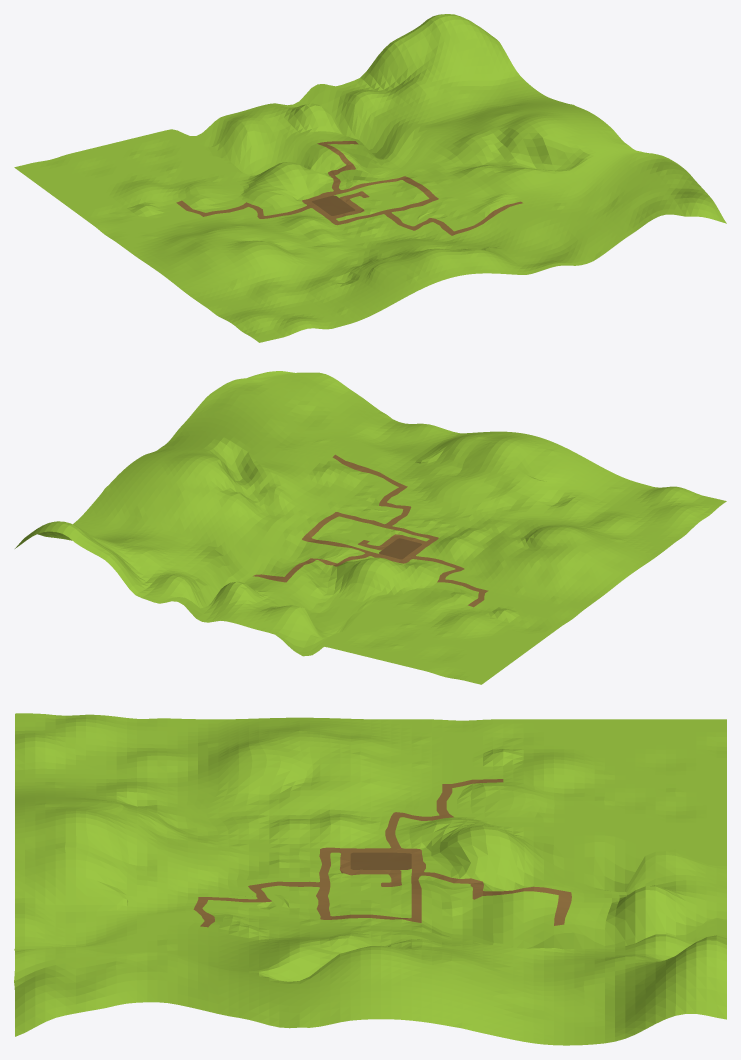
File: Landscape.fbx
The picture shows the model from 3 angles, top to bottom: view 1: azimuth 30°, elevation 25°; view 2: azimuth 150°, elevation 25°; view 3: azimuth 270°, elevation 25°; orthographic projection. The views are drawn at different scales.
Visible parts, largest first — view 1: pPlane1; view 2: pPlane1; view 3: pPlane1.
Part boxes in pixels (x1,y1,x2,y2): pPlane1: (14,14,726,342); pPlane1: (15,371,726,684); pPlane1: (14,713,726,1045).
Bounding box in the file's own units: 15412 × 2542 × 14019.
